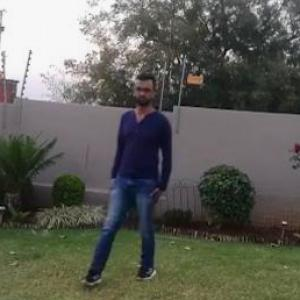follow: (116, 70, 190, 284)
